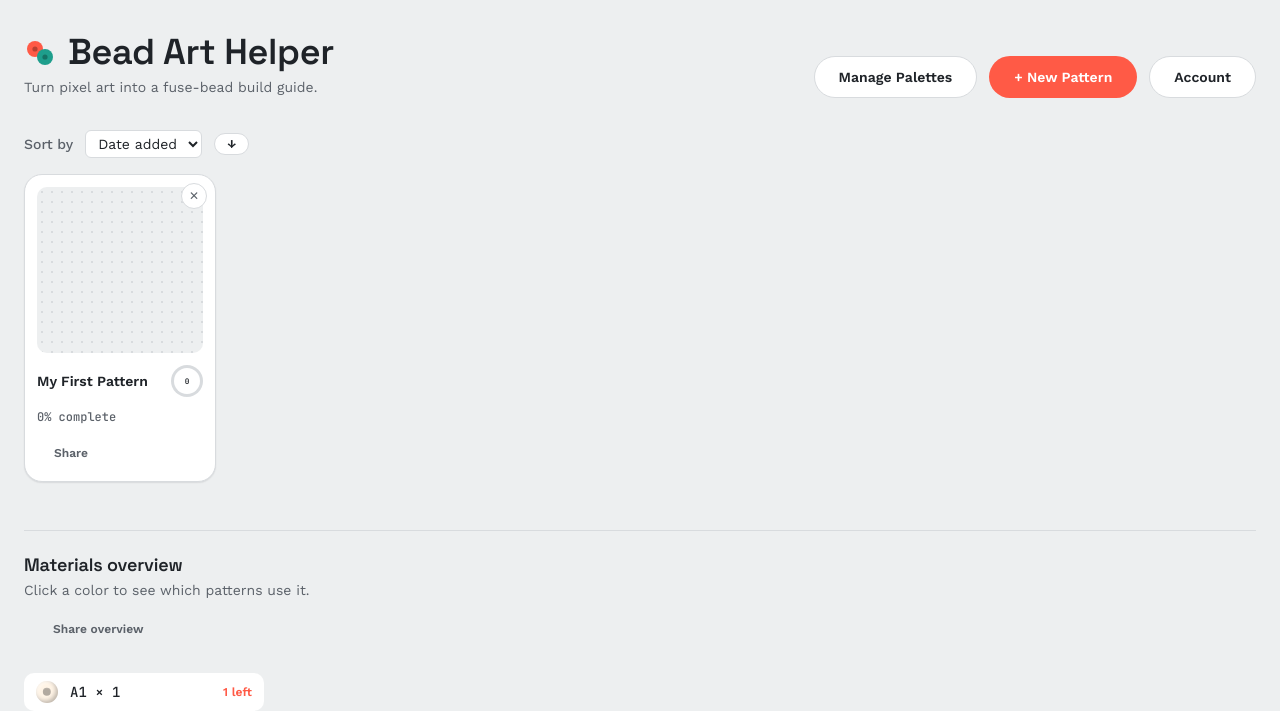
Scenario: HomeScreen › asks for confirmation before deleting, and cancel keeps the pattern
Check: the text "My First Pattern" is shown, box [37,373,148,389]
Click the button named "delete my first pattern". click: point(194, 196)
box: [181,183,207,209]
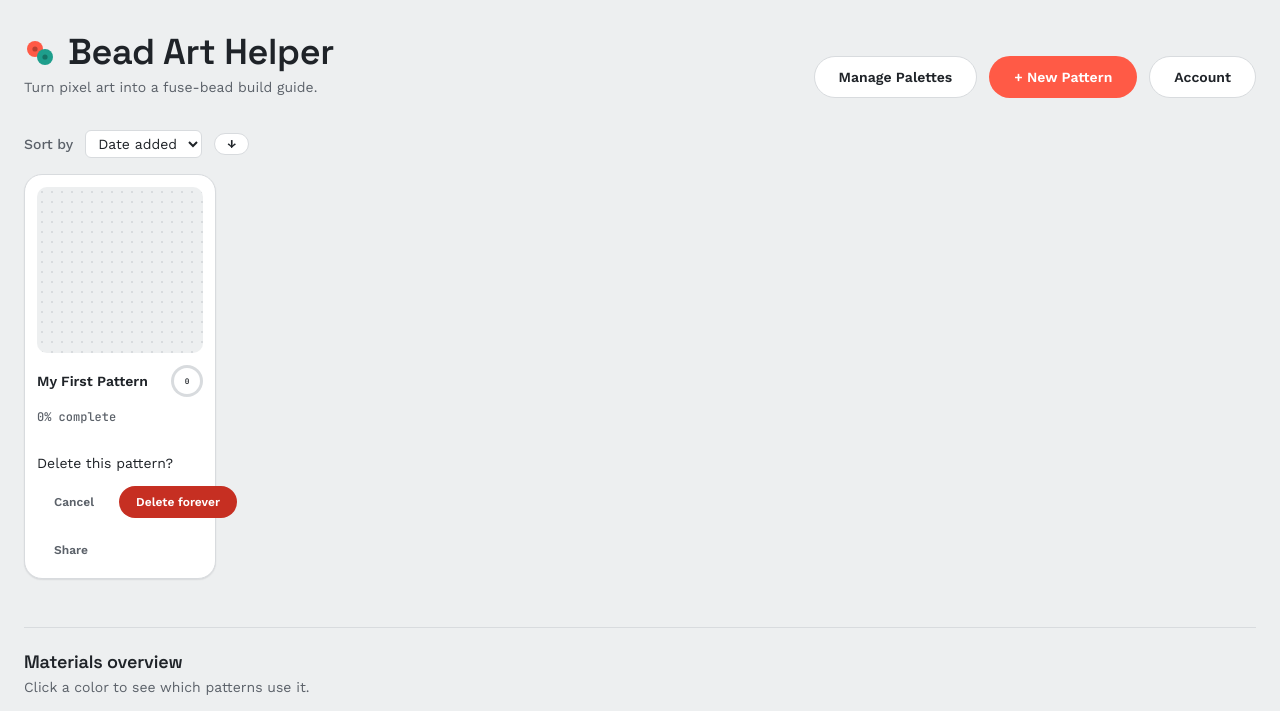
Check: the button "Delete forever" is shown, box [119,486,237,518]
Click the button "Cancel". click: point(74, 502)
box: [37,486,111,518]
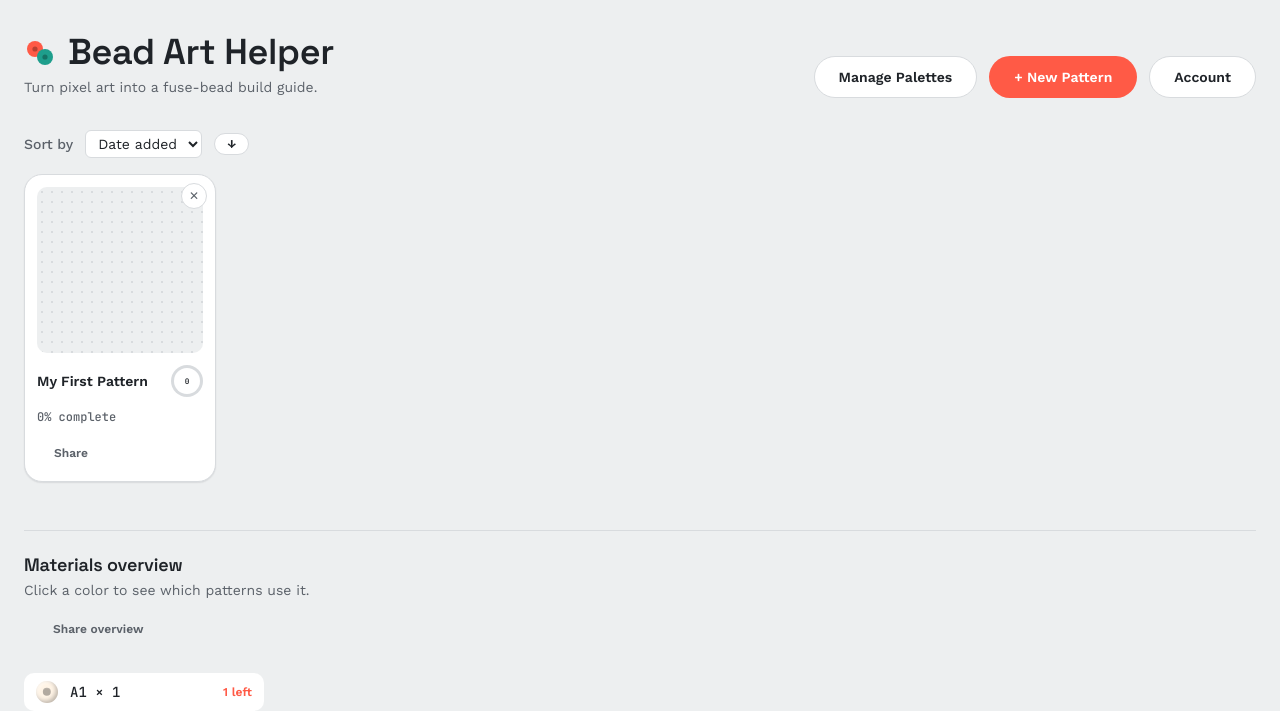
Check: the text "My First Pattern" is shown, box [37,373,148,389]
Check: the button "Delete forever" is gone
